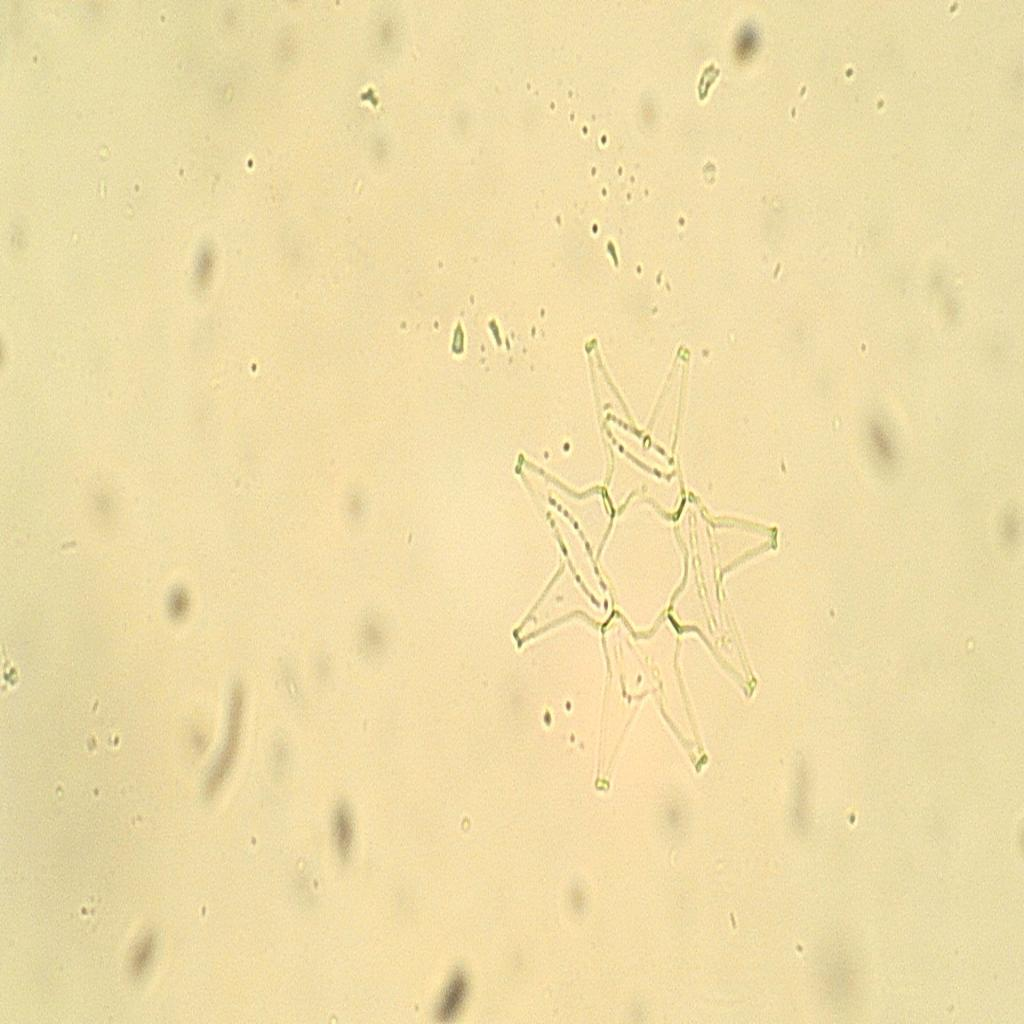Pediastrum_75TH: (497, 318, 793, 822)
